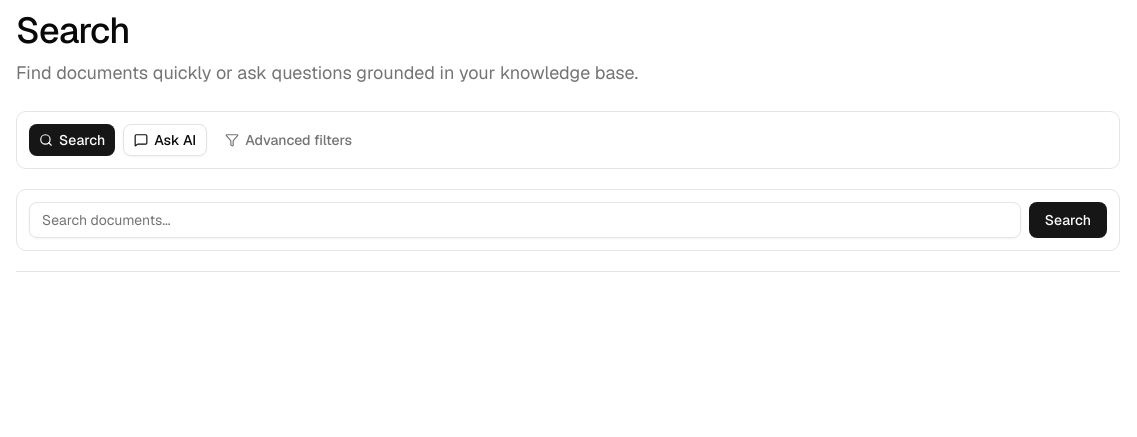
Test: Search Behavior › should handles search API error
The width and height of the screenshot is (1137, 437).
Type "error query" into the field with test id "search-input".
click(525, 220); type("error query")  # box [29, 202, 1021, 238]
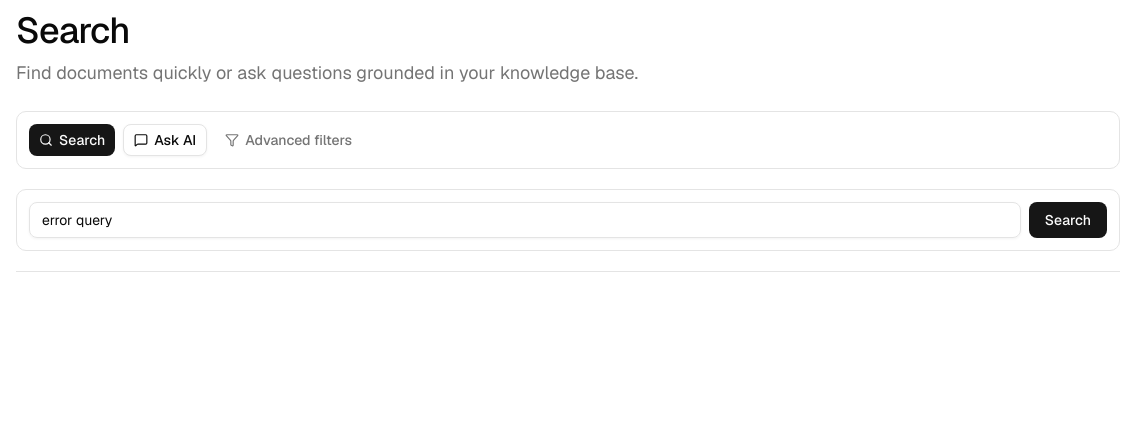
Click the button with test id "search-submit".
click(1068, 220)  # box [1029, 202, 1107, 238]
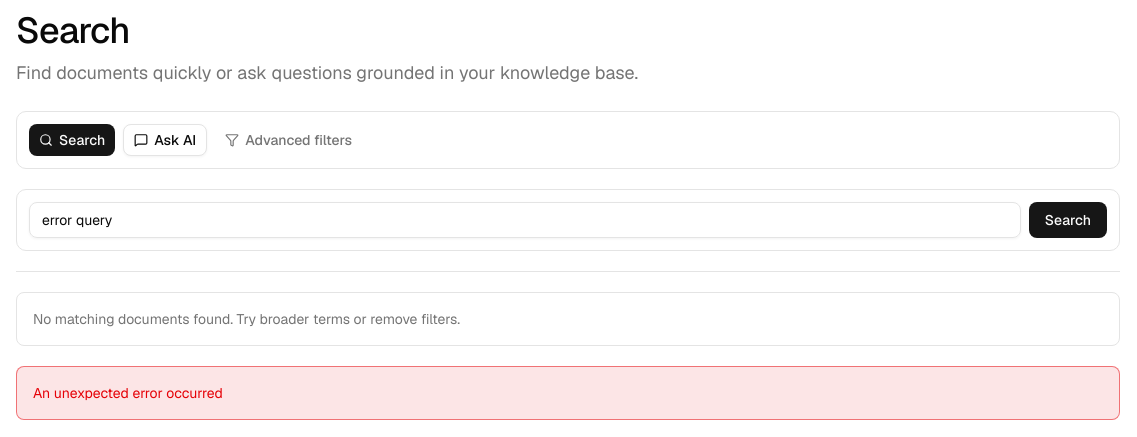
Check: the text "An unexpected error occurred" is shown, box [16, 366, 1120, 420]
